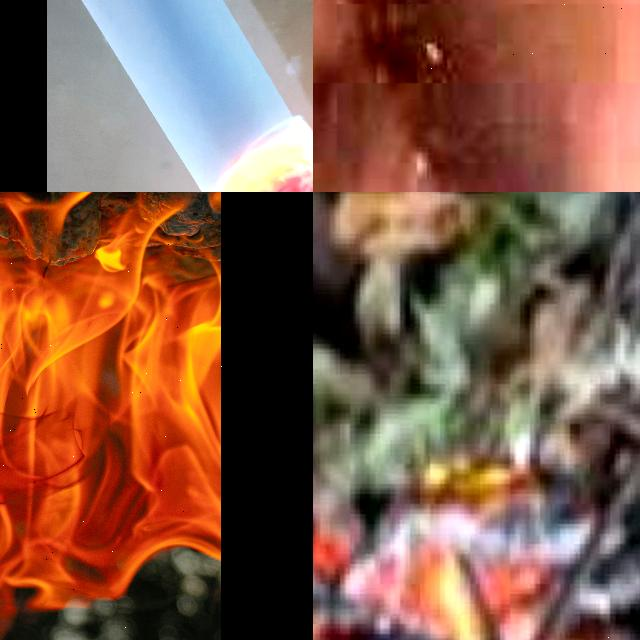fire: (0, 192, 222, 626), (313, 524, 580, 640)
